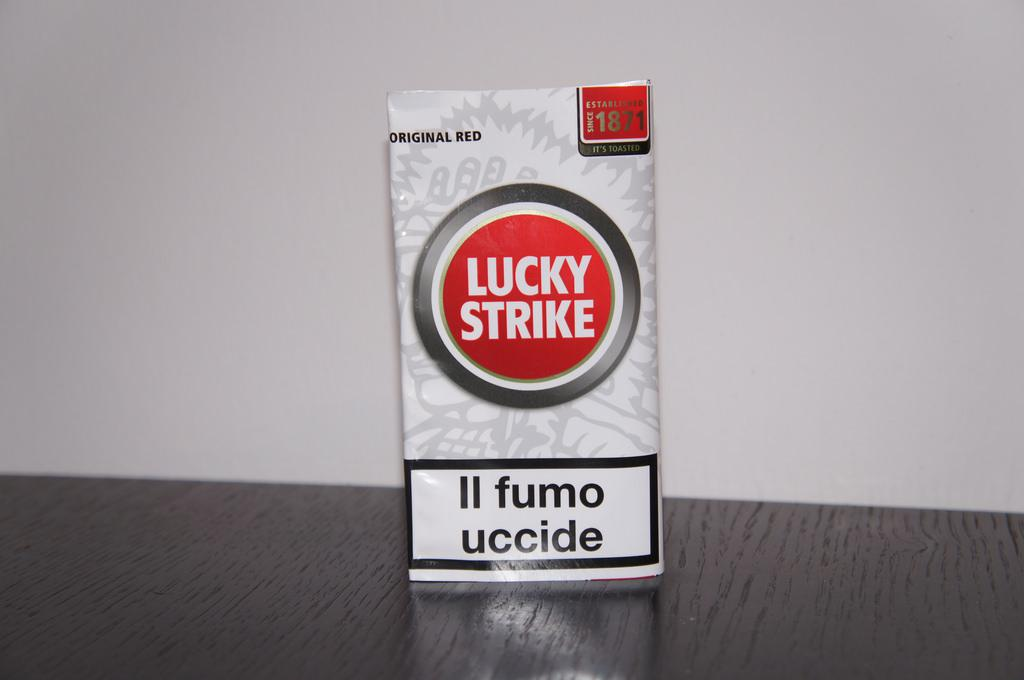lucky_strike_red: (398, 93, 662, 586)
